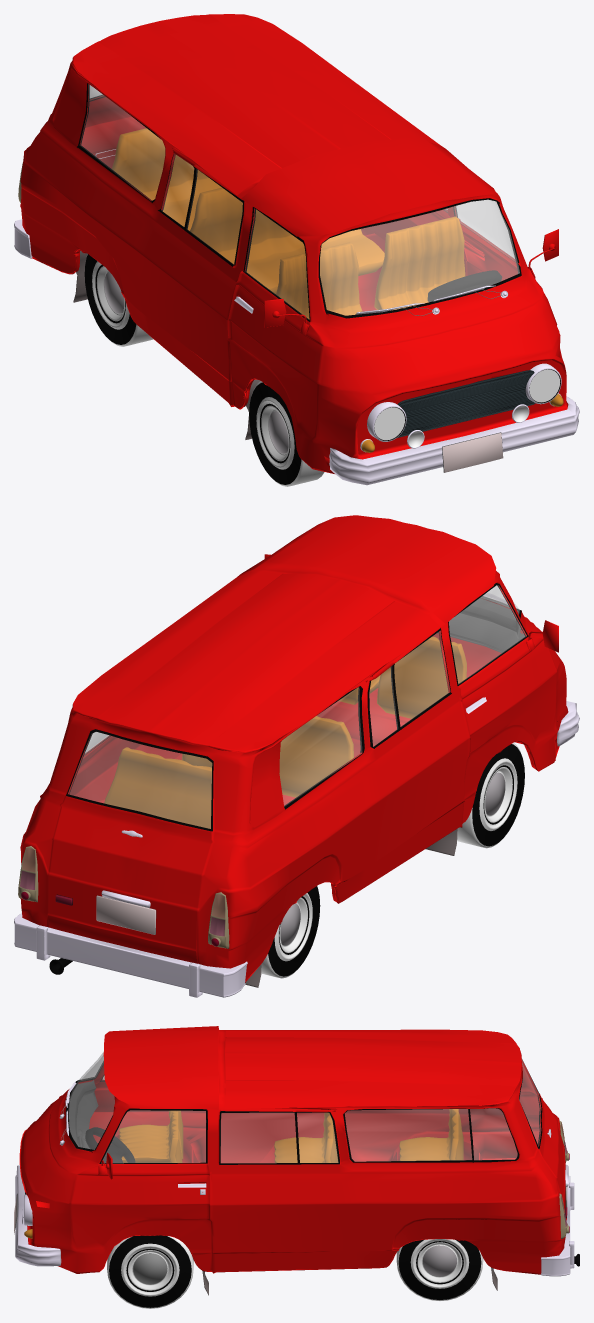
3 views of the same model, one above another, from view 1: azimuth 30°, elevation 25°; view 2: azimuth 150°, elevation 25°; view 3: azimuth 270°, elevation 25° (orthographic). The views are drawn at different scales.
Visible parts, largest first — view 1: Karoserie.001, Celni sklo.001, Plane.002, Plane.003, Predni naraznik, Vzduchovy filtr, Plane.001, Predni Leve, Plane.004, Zadni Leve, SPZ, Predni Leve Svetlo (+3 smaller); view 2: Karoserie.001, Zadni naraznik, Plane.001, Plane.002, Predni Leve, Plane.004, Zadni Leve, Palubka, Zadni Leve svetlo, SPZ.001, Plane, Predni naraznik; view 3: Karoserie.001, Predni Prave, Zadni Prave, Celni sklo.001, Plane.004, Plane.001, Plane.002, Predni naraznik, Palubka, Zadni naraznik, Circle.004, Plane.003 (+1 smaller).
Part boxes in pixels (left/top/right/bottom): Karoserie.001: left=20, top=14, right=568, bottom=473; Celni sklo.001: left=320, top=200, right=519, bottom=315; Plane.002: left=190, top=187, right=384, bottom=293; Plane.003: left=374, top=216, right=465, bottom=310; Predni naraznik: left=329, top=396, right=579, bottom=485; Vzduchovy filtr: left=397, top=370, right=535, bottom=437; Plane.001: left=112, top=128, right=221, bottom=230; Predni Leve: left=249, top=381, right=324, bottom=486; Plane.004: left=276, top=242, right=362, bottom=319; Zadni Leve: left=84, top=254, right=153, bottom=346; SPZ: left=442, top=432, right=503, bottom=472; Predni Leve Svetlo: left=367, top=402, right=406, bottom=441; Karoserie.001: left=20, top=515, right=568, bottom=982; Zadni naraznik: left=14, top=913, right=247, bottom=997; Plane.001: left=104, top=747, right=211, bottom=828; Plane.002: left=182, top=716, right=353, bottom=797; Predni Leve: left=457, top=743, right=524, bottom=848; Plane.004: left=377, top=636, right=466, bottom=718; Zadni Leve: left=261, top=886, right=320, bottom=978; Palubka: left=437, top=598, right=524, bottom=652; Zadni Leve svetlo: left=18, top=846, right=229, bottom=948; SPZ.001: left=96, top=895, right=156, bottom=934; Plane: left=432, top=629, right=557, bottom=721; Predni naraznik: left=557, top=701, right=579, bottom=746; Karoserie.001: left=19, top=1026, right=566, bottom=1274; Predni Prave: left=107, top=1235, right=193, bottom=1308; Zadni Prave: left=396, top=1239, right=483, bottom=1300; Celni sklo.001: left=68, top=1052, right=114, bottom=1149; Plane.004: left=119, top=1110, right=183, bottom=1162; Plane.001: left=399, top=1109, right=463, bottom=1160; Plane.002: left=274, top=1112, right=338, bottom=1163; Predni naraznik: left=15, top=1165, right=61, bottom=1266; Palubka: left=69, top=1080, right=98, bottom=1148; Zadni naraznik: left=541, top=1175, right=574, bottom=1276; Circle.004: left=85, top=1127, right=135, bottom=1163; Plane.003: left=168, top=1111, right=182, bottom=1162.
Size of the model in its own units: 1.42 by 1.27 by 3.
